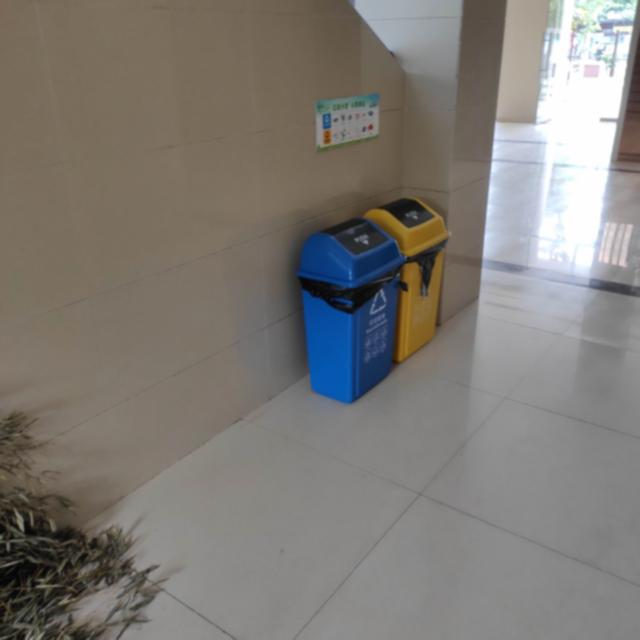ash bin: (295, 218, 408, 403), (364, 196, 452, 364)
